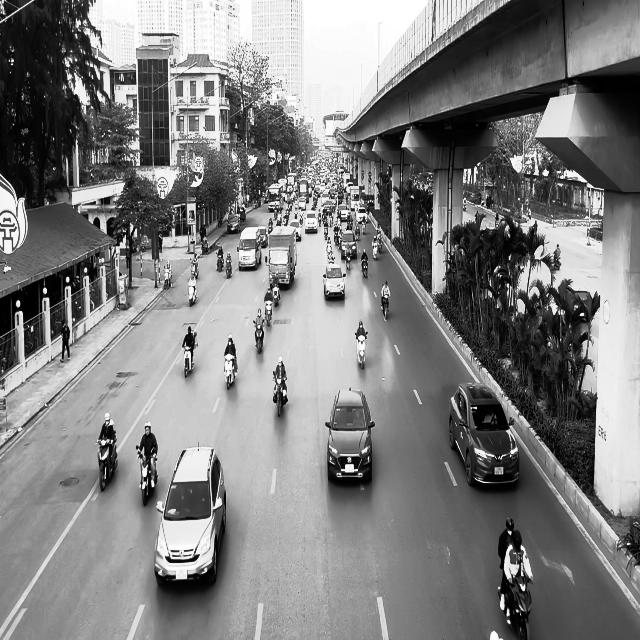car: (154, 443, 227, 587), (448, 382, 520, 487), (325, 387, 375, 482), (322, 262, 346, 300)
motorbike: (497, 579, 532, 639), (136, 445, 158, 506), (96, 434, 118, 492), (182, 330, 198, 377), (272, 371, 288, 416), (224, 354, 238, 389), (355, 331, 367, 368), (253, 320, 264, 354), (380, 295, 390, 320), (188, 281, 197, 306), (163, 266, 172, 289), (264, 301, 272, 325), (552, 250, 561, 270), (216, 253, 224, 272), (225, 259, 232, 278)
